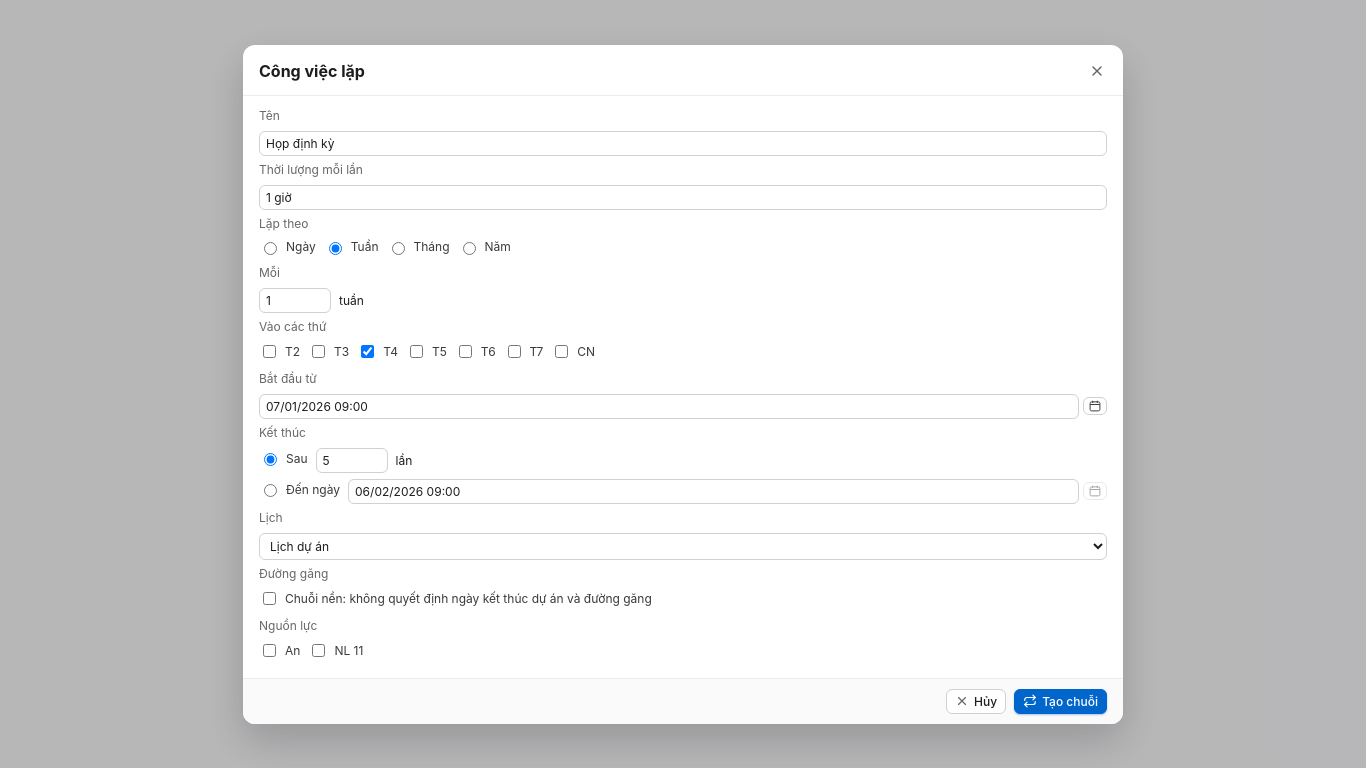
RecurringDialog validation › Thời lượng mỗi lần =  shows “Thời lượng không hợp lệ”
Clear the field named "Thời lượng mỗi lần": [683, 197] box [259,184,1107,210]
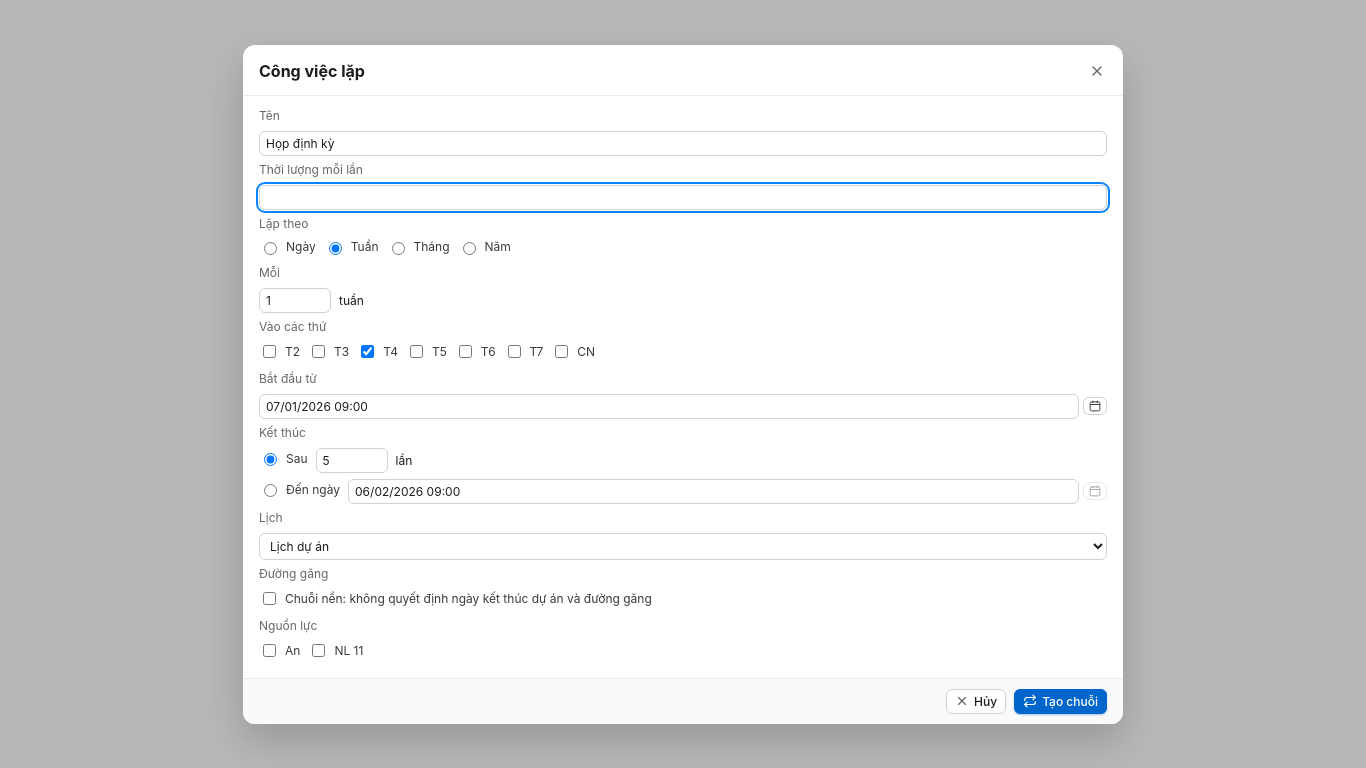
Click the button "Tạo chuỗi": [1061, 701] box [1014,688,1107,714]
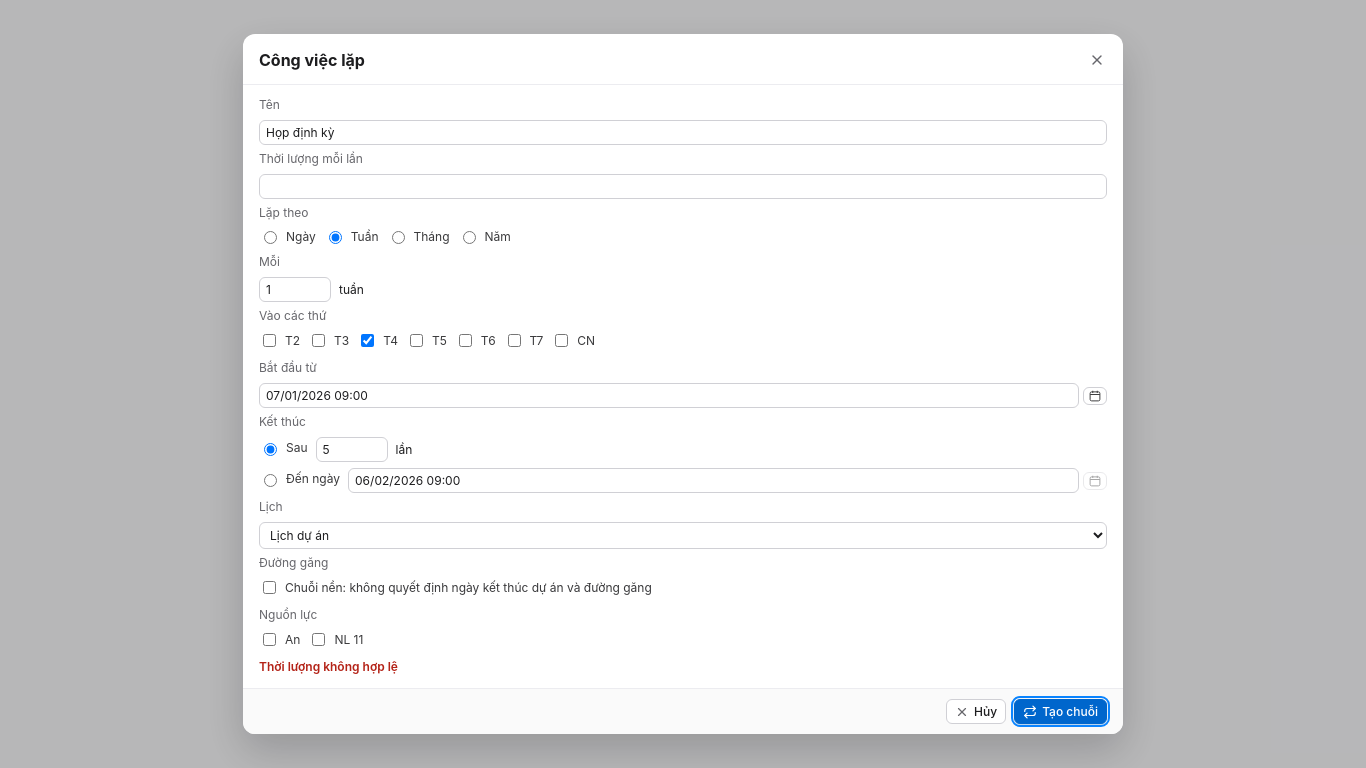
Now the text "Thời lượng không hợp lệ" is shown, box [259,659,398,674]
